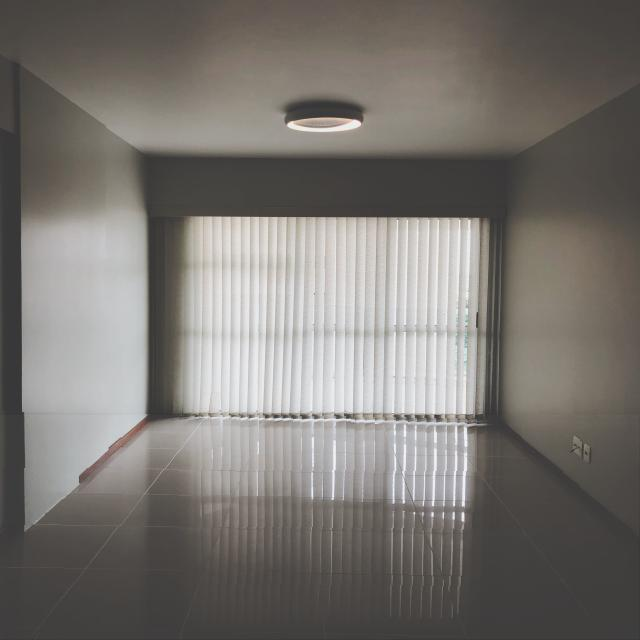floor: (0, 416, 639, 639)
